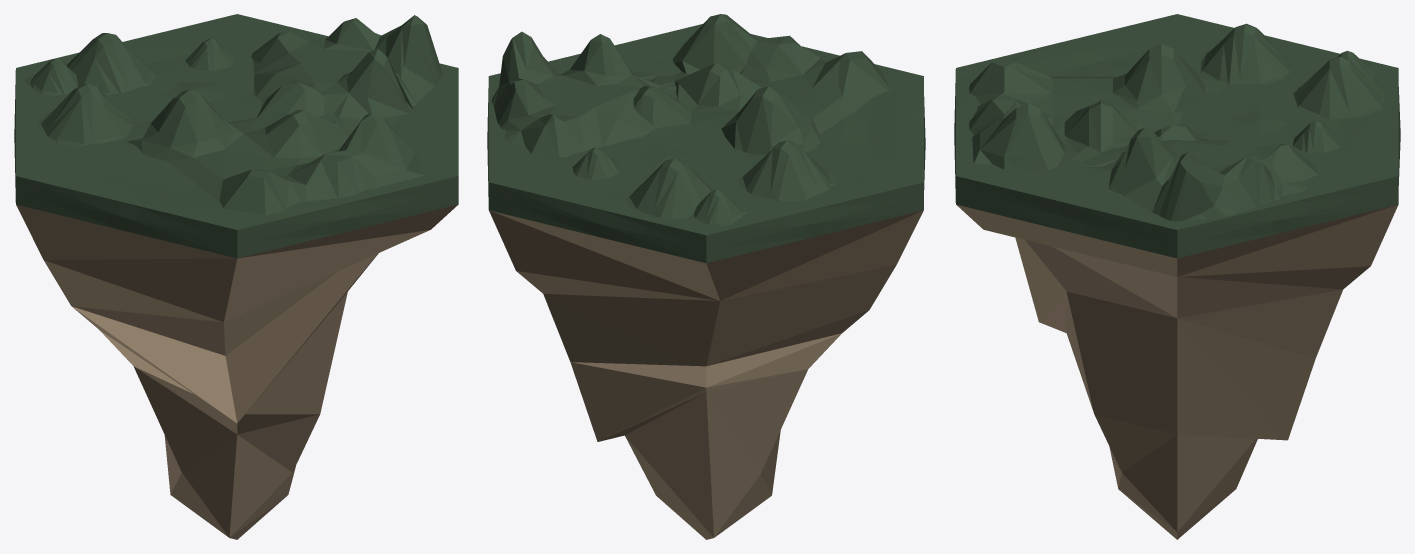
The model's file is Island1.fbx.
3 renders of one model, left to right at view 1: azimuth 30°, elevation 25°; view 2: azimuth 150°, elevation 25°; view 3: azimuth 270°, elevation 25°, orthographic.
Visible parts, largest first — view 1: landmass3, pPlane21, pPlane24, pPlane27, pPlane26, pPlane25, pPlane28; view 2: landmass3, pPlane21, pPlane24, pPlane27, pPlane26, pPlane25, pPlane28; view 3: landmass3, pPlane21, pPlane24, pPlane26, pPlane27, pPlane28.
Boxes of the visible parts, x1,y1,x2,y2 form: landmass3: (14, 14, 458, 539); pPlane21: (127, 80, 425, 215); pPlane24: (251, 15, 442, 126); pPlane27: (38, 84, 133, 146); pPlane26: (65, 33, 156, 95); pPlane25: (24, 59, 78, 96); pPlane28: (185, 39, 234, 71); landmass3: (487, 24, 925, 539); pPlane21: (633, 14, 890, 154); pPlane24: (492, 31, 676, 158); pPlane27: (738, 140, 837, 201); pPlane26: (625, 158, 716, 219); pPlane25: (688, 189, 747, 226); pPlane28: (572, 147, 619, 179); landmass3: (954, 14, 1400, 539); pPlane21: (969, 43, 1205, 170); pPlane24: (1084, 128, 1322, 221); pPlane26: (1293, 56, 1386, 118); pPlane27: (1200, 23, 1290, 84); pPlane28: (1293, 121, 1340, 152).
Bounding box in the file's own units: 8.8 × 9.05 × 7.69.
